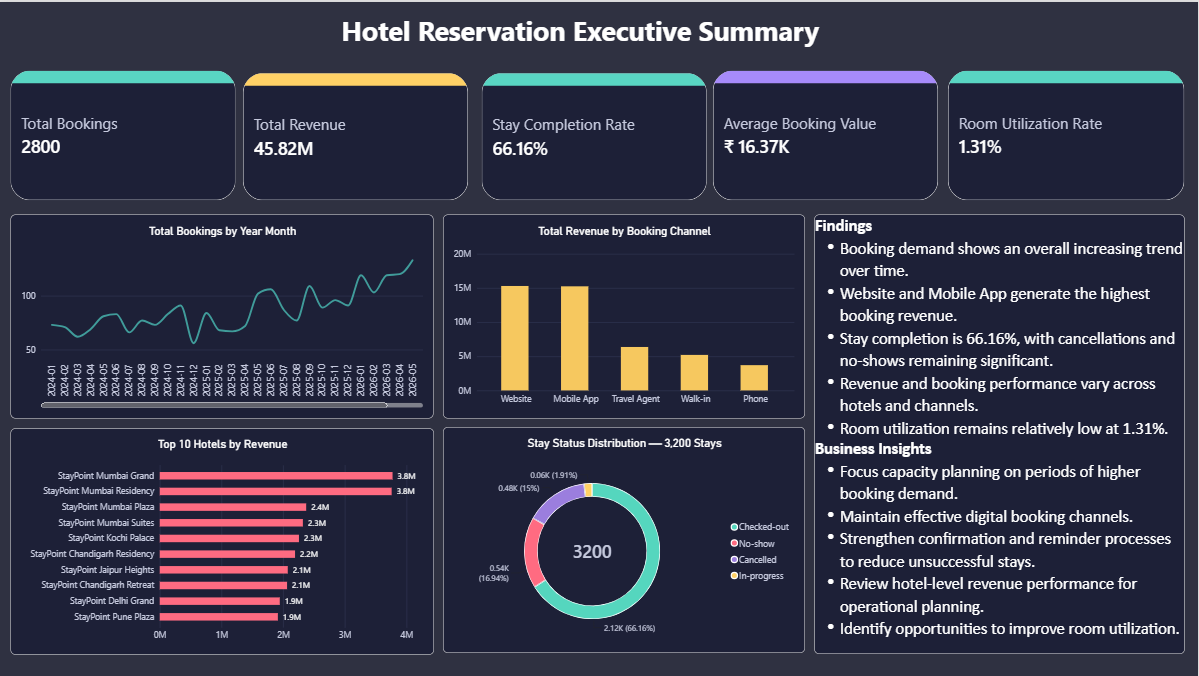

The page's visual inventory and layout, read from the dashboard file:
{"tool":"powerbi","page":{"name":"5.6","canvas":[1920,1080],"ordinal":6},"visuals":[{"type":"cardVisual","fields":{"Data":["bookings.Total Bookings"]},"box":[20.3,109.9,360.1,207.5],"z":0},{"type":"cardVisual","fields":{"Data":["bookings.Total Revenue"]},"box":[392.6,113.9,360.1,203.4],"z":1000},{"type":"cardVisual","fields":{"Data":["bookings.Average Booking Value"]},"box":[1143.3,109.9,360.1,207.5],"z":2000},{"type":"cardVisual","fields":{"Data":["stays.Stay Completion Rate"]},"box":[773,113.9,360.1,203.4],"z":3000},{"type":"cardVisual","fields":{"Data":["rooms.Room Utilization Rate"]},"box":[1519.6,109.9,378.4,207.5],"z":4000},{"type":"clusteredBarChart","title":"Top 10 Hotels by Revenue","fields":{"Category":["hotels.hotel_name"],"Y":["bookings.Total Revenue"]},"box":[20.3,681.5,677.4,362.1],"z":5000},{"type":"clusteredColumnChart","title":"Total Revenue by Booking Channel","fields":{"Category":["bookings.booking_channel"],"Y":["bookings.Total Revenue"]},"box":[712.6,339.4,579.5,326.3],"z":6000},{"type":"donutChart","title":"Stay Status Distribution — 3,200 Stays","fields":{"Category":["stays.status"],"Y":["CountNonNull(stays.stay_id)"]},"box":[712.6,680.8,579.5,361.9],"z":7000},{"type":"lineChart","fields":{"Category":["DateTable.Year Month"],"Y":["bookings.Total Bookings"]},"box":[20.6,339.4,677,326.3],"z":8000},{"type":"textbox","box":[1305.3,339.4,592.6,703.3],"z":9000},{"type":"textbox","box":[440.7,16.9,982.6,74.2],"z":10000}]}

Visuals, with their boxes in screenshot pixels (x1, y1, x2, y2), scaled from the page's 1920x1080 canvas onto the 1199x676 screenshot:
cardVisual - bookings.Total Bookings: BBox(13, 69, 238, 199)
cardVisual - bookings.Total Revenue: BBox(245, 71, 470, 199)
cardVisual - bookings.Average Booking Value: BBox(714, 69, 939, 199)
cardVisual - stays.Stay Completion Rate: BBox(483, 71, 708, 199)
cardVisual - rooms.Room Utilization Rate: BBox(949, 69, 1185, 199)
"Top 10 Hotels by Revenue" clusteredBarChart: BBox(13, 427, 436, 653)
"Total Revenue by Booking Channel" clusteredColumnChart: BBox(445, 212, 807, 417)
"Stay Status Distribution — 3,200 Stays" donutChart: BBox(445, 426, 807, 653)
lineChart - DateTable.Year Month x bookings.Total Bookings: BBox(13, 212, 436, 417)
textbox: BBox(815, 212, 1185, 653)
textbox: BBox(275, 11, 889, 57)
